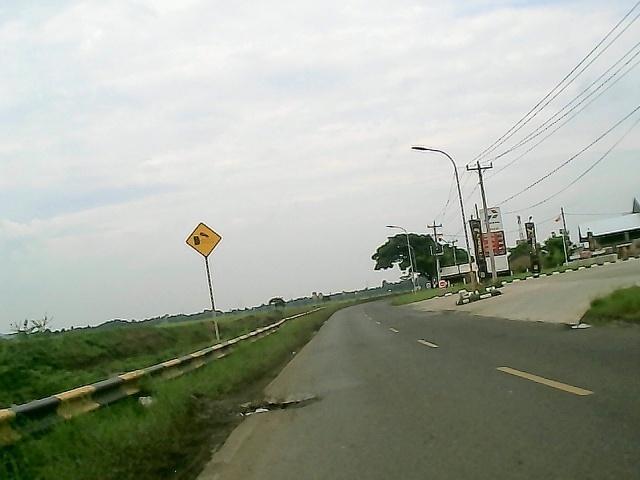Peringatan tepi air: (182, 218, 223, 259)
